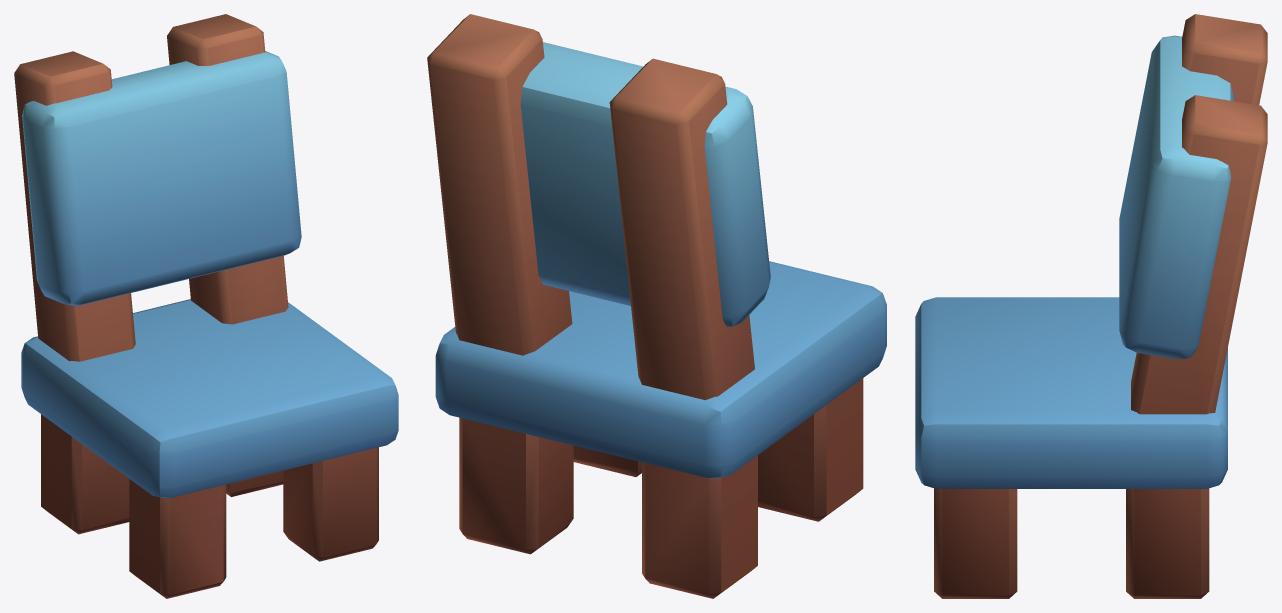
The model's file is kaykit-chair-b.glb.
The picture shows the model from 3 angles, left to right: view 1: azimuth 30°, elevation 25°; view 2: azimuth 150°, elevation 25°; view 3: azimuth 270°, elevation 25°; orthographic projection. The views are drawn at different scales.
Visible parts, largest first — view 1: chair_B; view 2: chair_B; view 3: chair_B.
Boxes of the visible parts, x1,y1,x2,y2 form: chair_B: (14, 14, 398, 598); chair_B: (427, 14, 886, 598); chair_B: (915, 14, 1267, 598).
Bounding box in the file's own units: 0.75 × 1.26 × 0.8451.
1 material, 1 textured.
